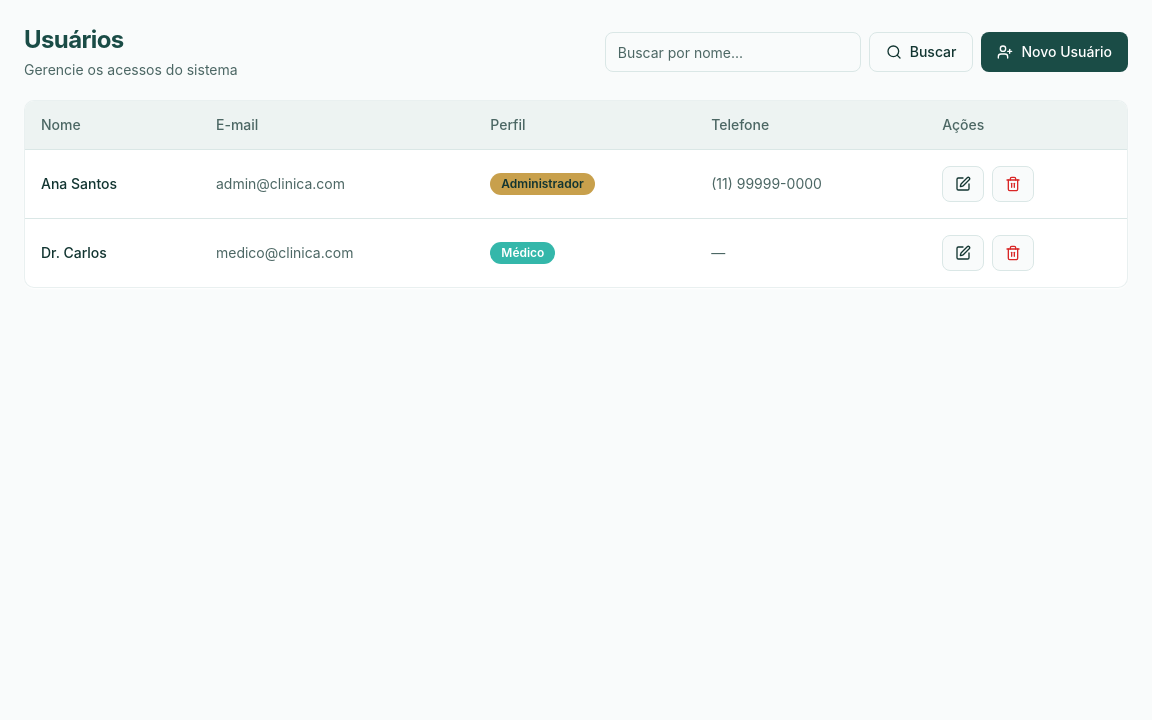
Test case: Usuarios › não deve exibir aviso especial ao excluir médico sem consultas vinculadas
The image size is (1152, 720).
Expected: the text "medico@clinica.com" is shown, 200,218 -> 474,286
Click the button named "Excluir usuário Dr. Carlos": (1013,252) 992,234 -> 1034,270
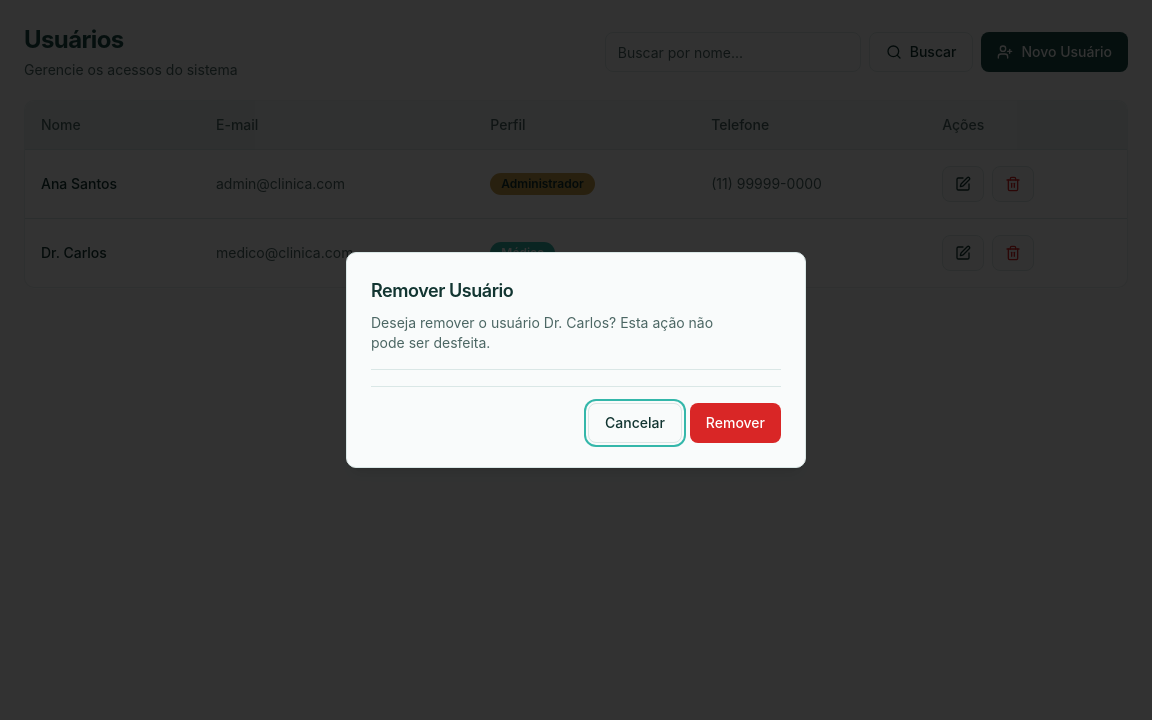
Expected: the text "Deseja remover o usuário Dr. Carlos? Esta ação não pode ser desfeita." is shown, 371,313 -> 749,353
